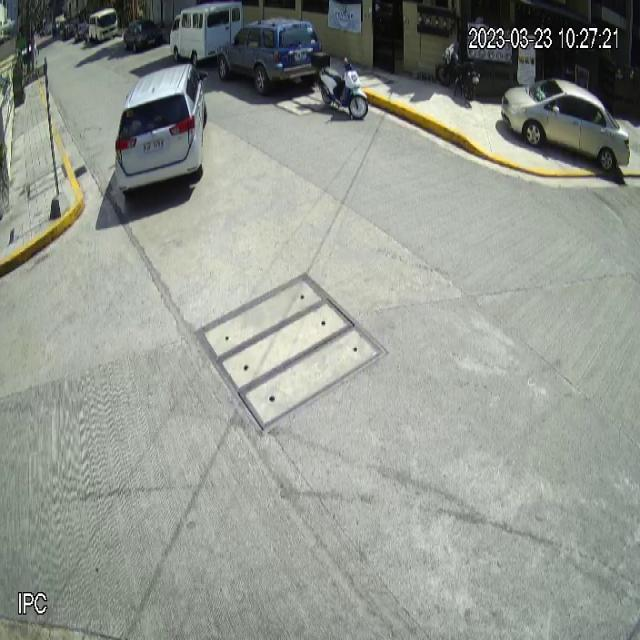Car: (501, 76, 631, 171), (114, 64, 208, 195), (219, 15, 325, 94)
Motorcycle: (312, 48, 369, 120)
Van: (169, 2, 244, 69)
